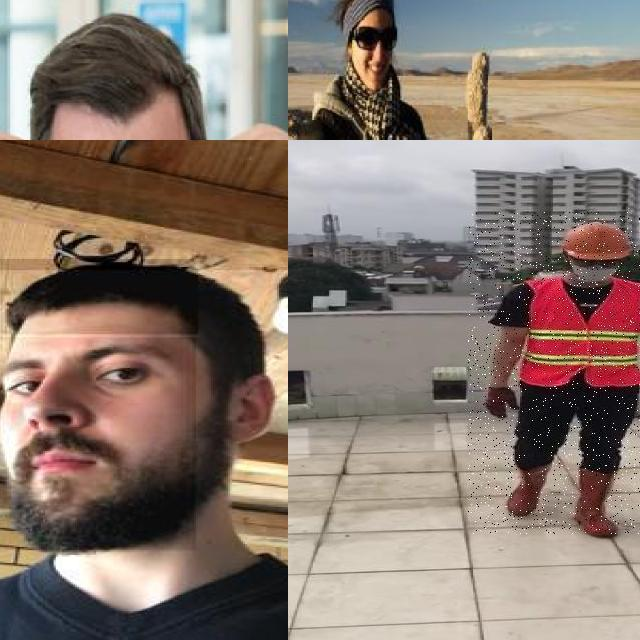No_Ear-Protection: (215, 368, 281, 444)
boots: (578, 467, 626, 539), (492, 465, 554, 517)
face_nomask: (0, 337, 196, 550), (352, 27, 398, 79)
glasses: (350, 24, 397, 61)
head_helmet: (558, 218, 636, 262)
head_nohelmet: (23, 4, 206, 128), (1, 259, 198, 334), (337, 0, 401, 22)
person: (0, 270, 288, 640), (468, 212, 640, 534), (0, 8, 288, 140), (288, 0, 454, 140)
vest: (522, 280, 640, 386)
